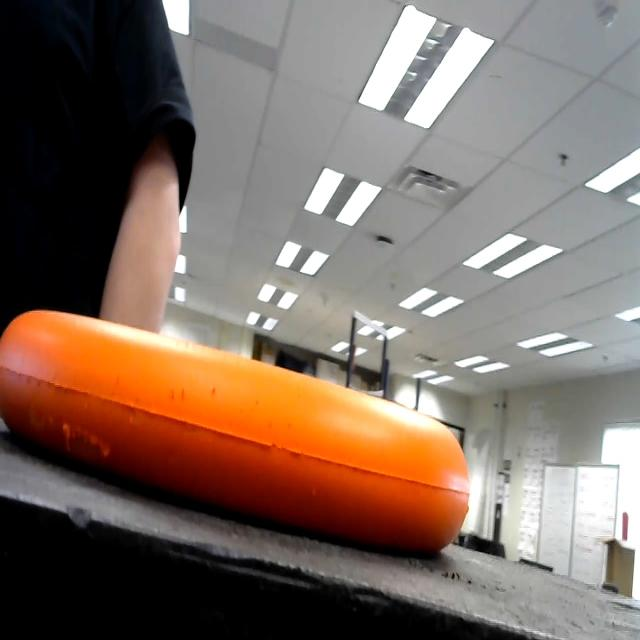note: (0, 280, 490, 577)
